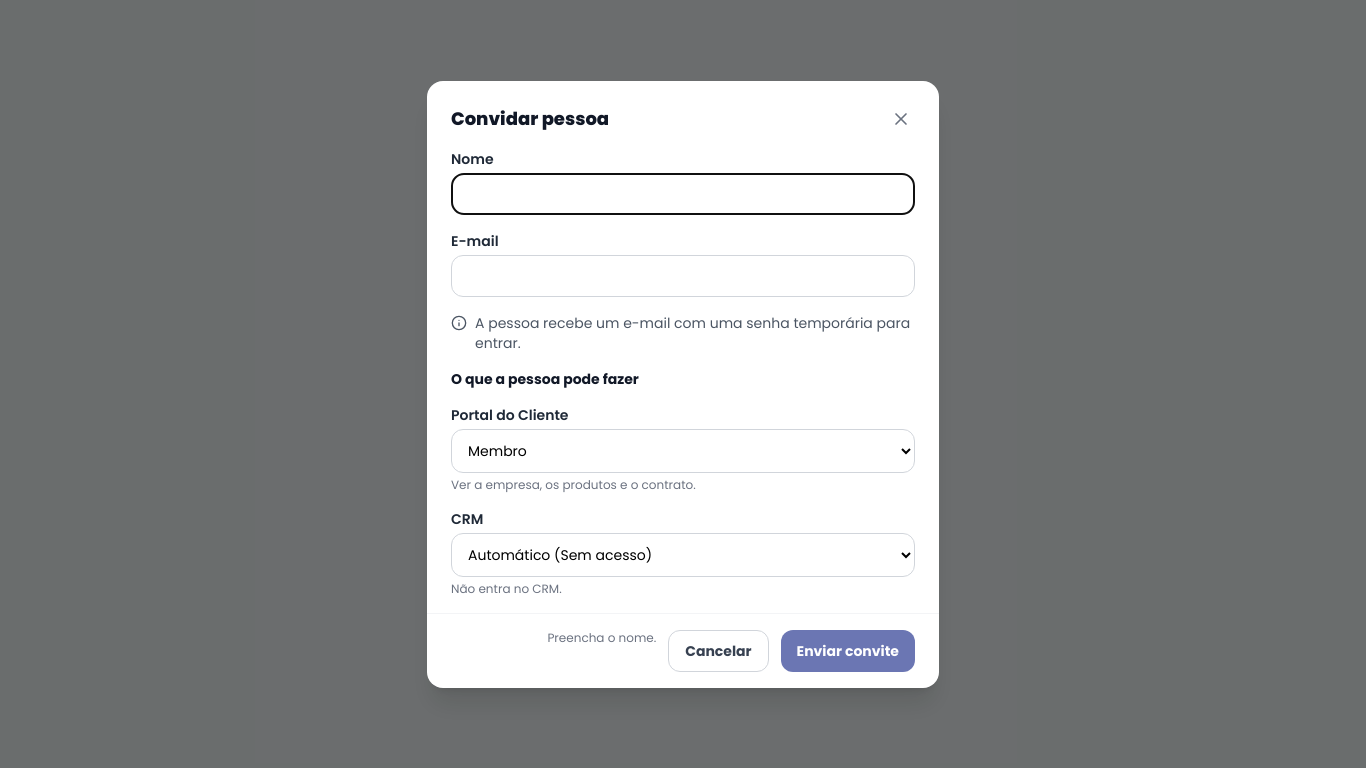
Test: UsuarioDialog — convidar › erro de rede: mensagem genérica
Type "Bia" into the field labelled "Nome" at (683,194), box left=451, top=172, right=915, bottom=214
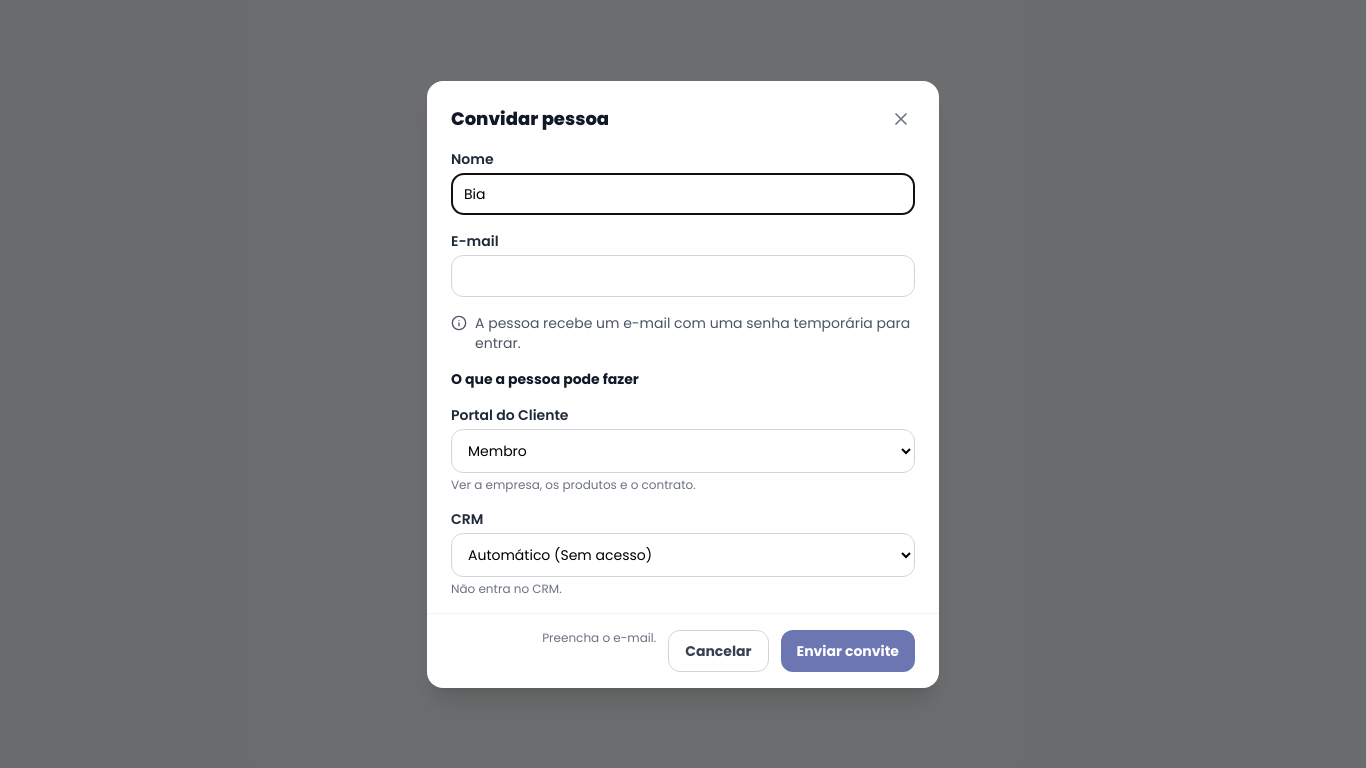
Type "bia@loja.com" into the field labelled "E-mail" at (683,276), box left=451, top=254, right=915, bottom=296
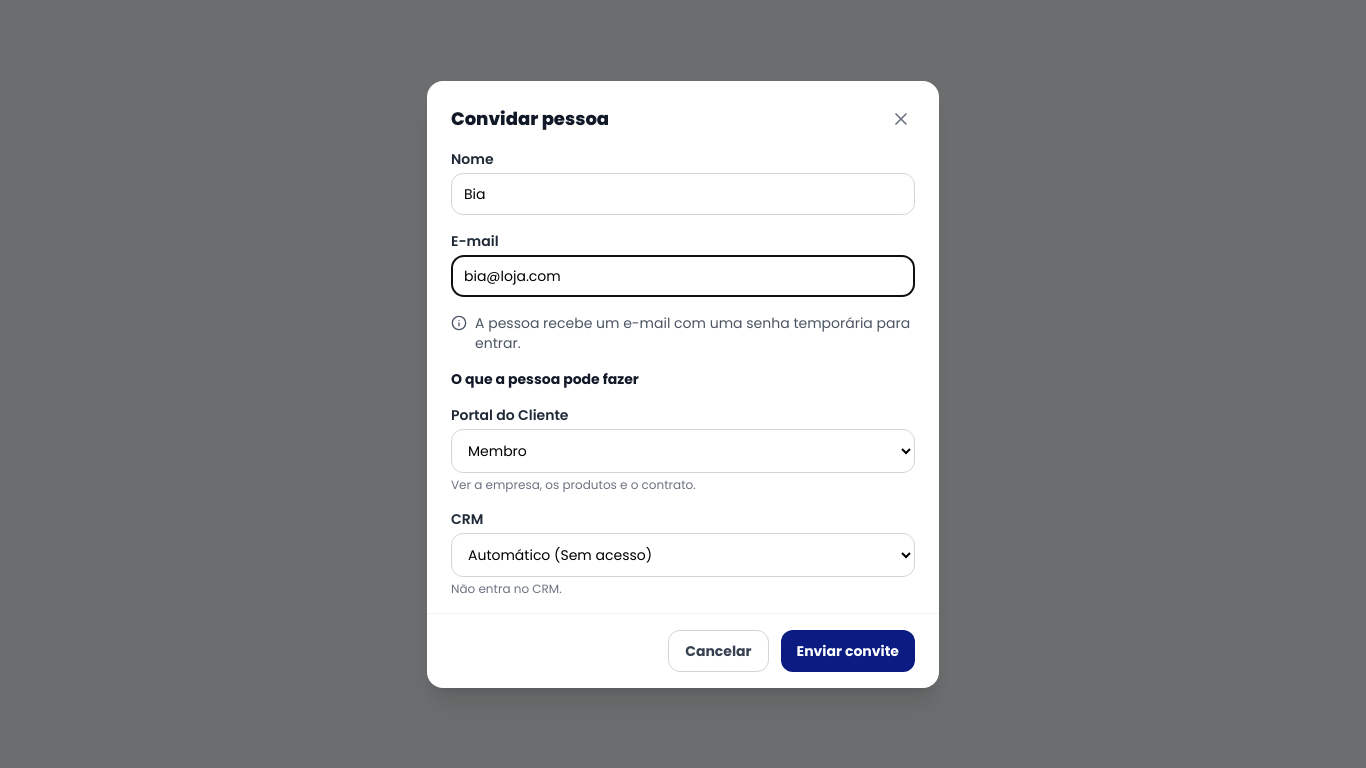
Click the button "Enviar convite" at (848,650), box left=781, top=630, right=915, bottom=672
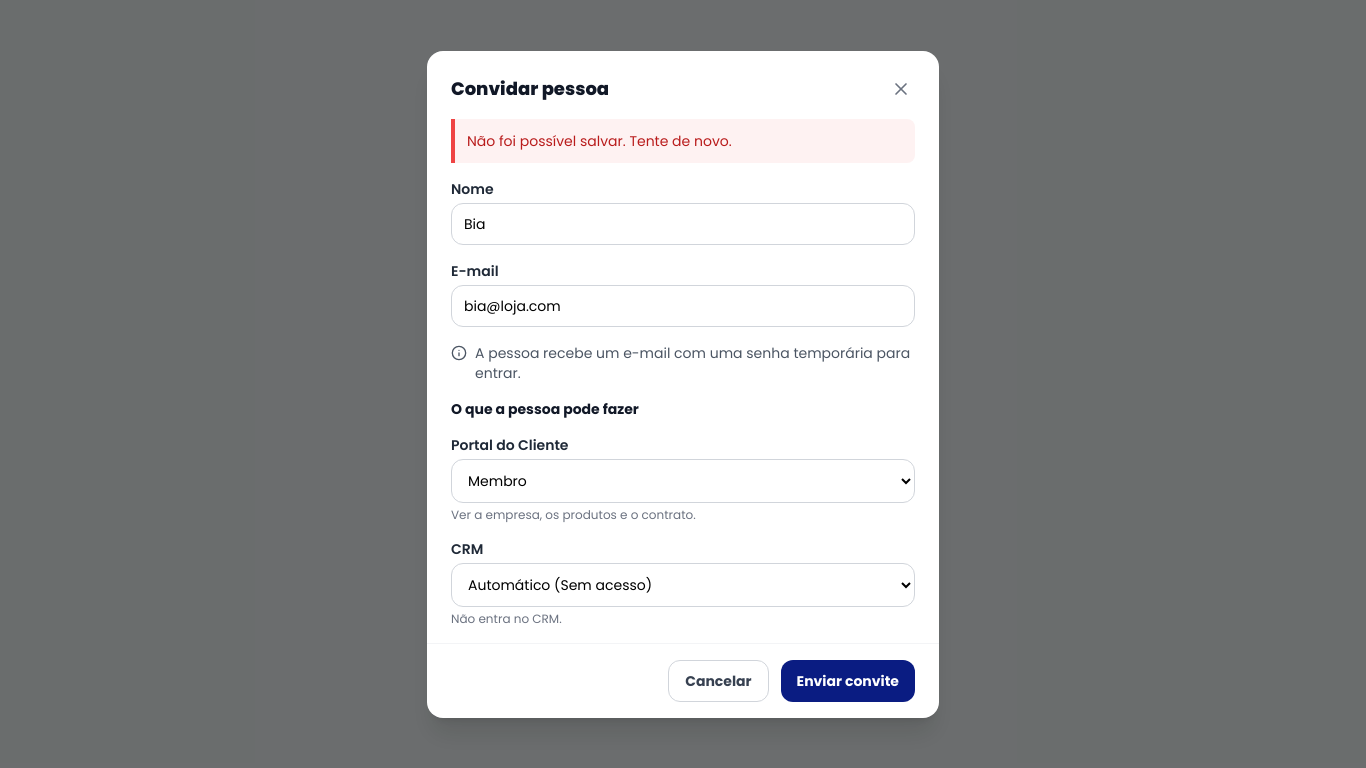
Result: the message reads "Não foi possível salvar. Tente de novo." at left=467, top=130, right=732, bottom=150
